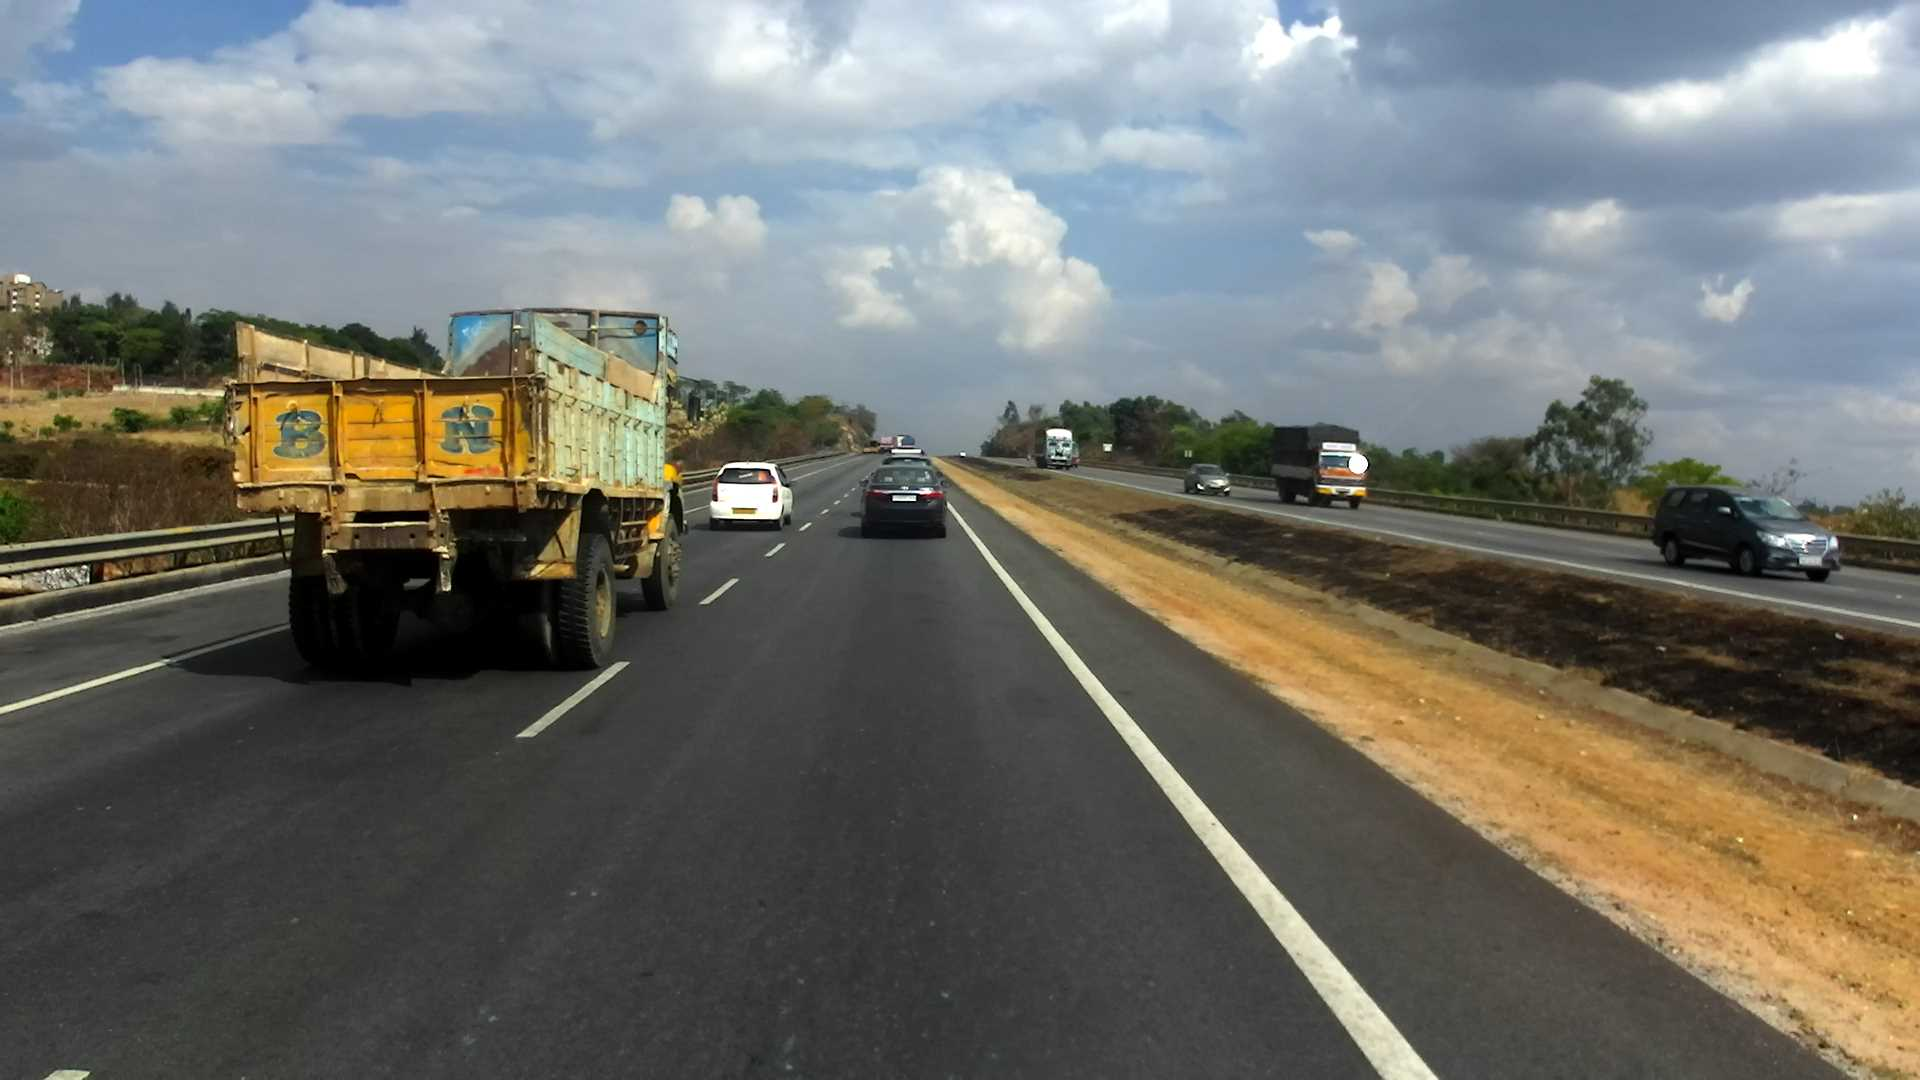car: (1638, 450, 1868, 594), (696, 441, 815, 556), (857, 453, 974, 548), (1179, 450, 1245, 506)
truck: (195, 259, 770, 696), (1256, 411, 1398, 515), (1023, 405, 1098, 485), (883, 430, 941, 471)
